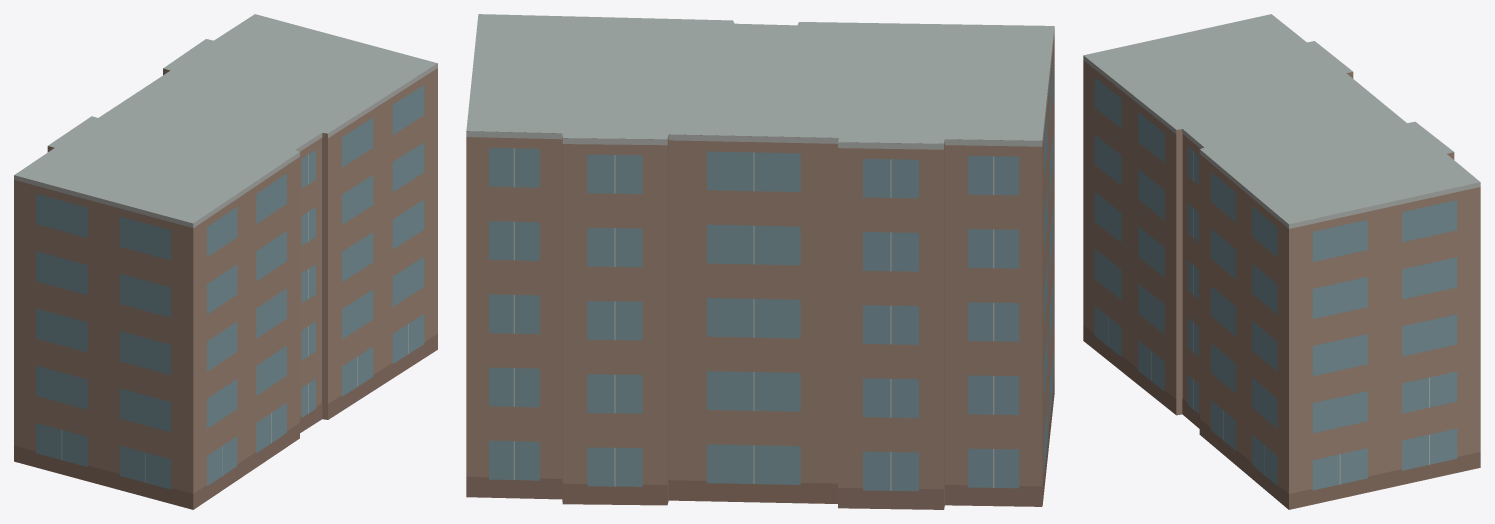
Rendered from survey-upis-32830237.glb.
3 views of the same model, side by side, from view 1: azimuth 30°, elevation 25°; view 2: azimuth 150°, elevation 25°; view 3: azimuth 270°, elevation 25° (orthographic). The views are drawn at different scales.
Visible parts, largest first — view 1: survey-upis-32830237.tmp; view 2: survey-upis-32830237.tmp; view 3: survey-upis-32830237.tmp.
Boxes of the visible parts, x1,y1,x2,y2 form: survey-upis-32830237.tmp: [14, 14, 437, 509]; survey-upis-32830237.tmp: [466, 14, 1054, 509]; survey-upis-32830237.tmp: [1083, 14, 1480, 509].
Bounding box in the file's own units: 23.67 × 14.97 × 18.89.
